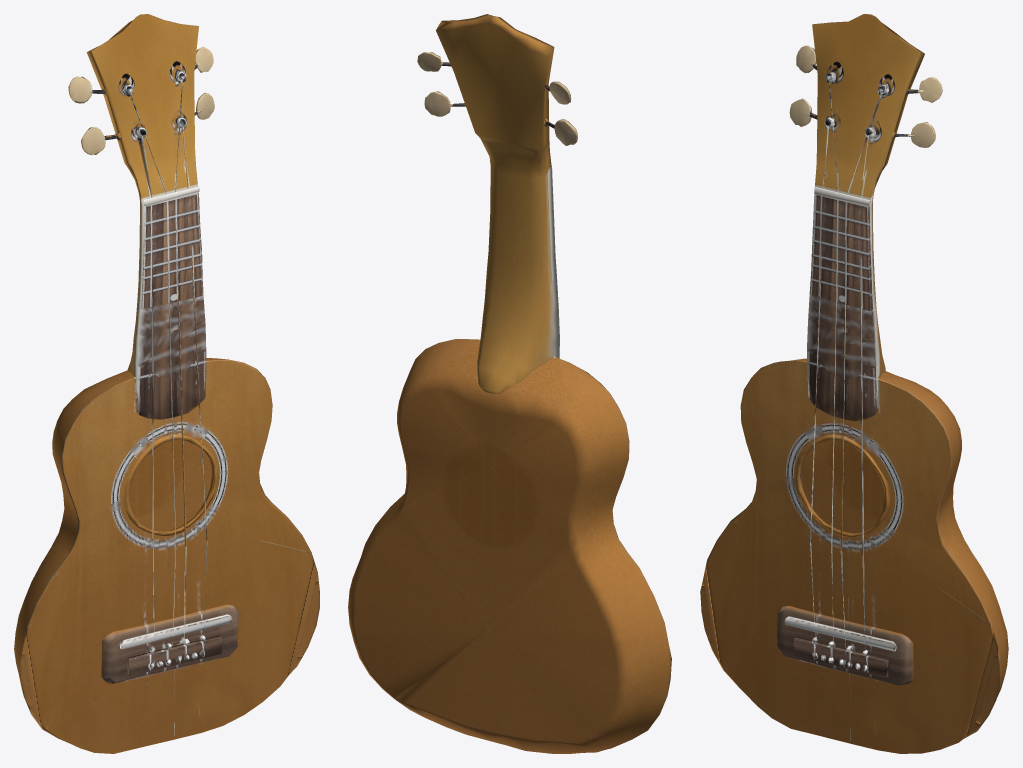
The model's file is test_ukulele.glb.
3 views of the same model, side by side, from view 1: azimuth 30°, elevation 25°; view 2: azimuth 150°, elevation 25°; view 3: azimuth 330°, elevation 25° (orthographic). The views are drawn at different scales.
Size of the model in its own units: 0.4443 by 1 by 0.1052.
Materials: 1 (1 with a texture image).
